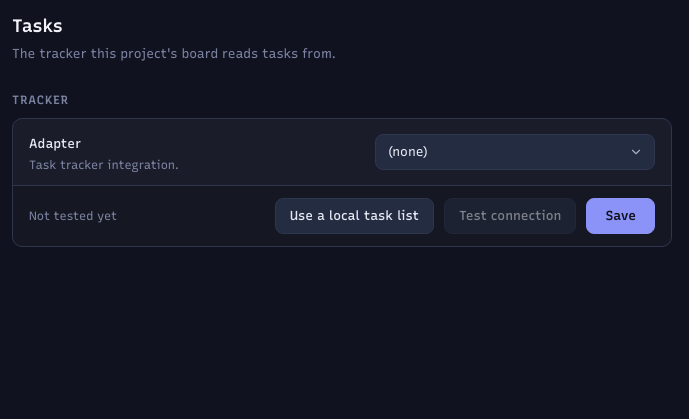
KanbanSettings - Local file (project-home spec Behaviour 6-7, 10) › offers Use a local task list while unbound; it binds, invalidates and shows the path
Click the button with test id "settings-kanban-use-local".
click(354, 216)  # box [275, 198, 434, 234]
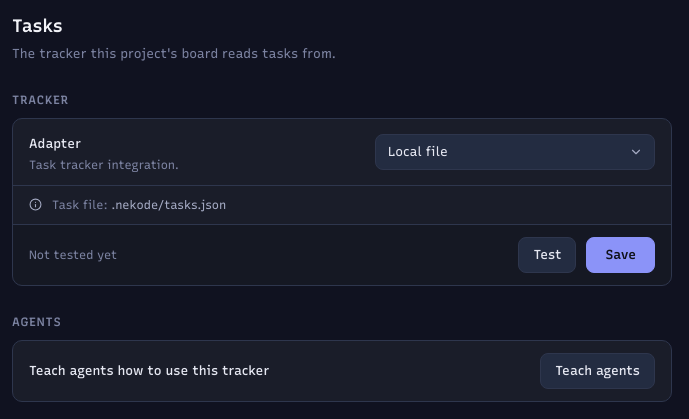
expect the dropdown with test id "settings-kanban-adapter-select" shows "Local file": met, box [375, 134, 655, 170]
expect the button with test id "settings-kanban-use-local" is gone: met
